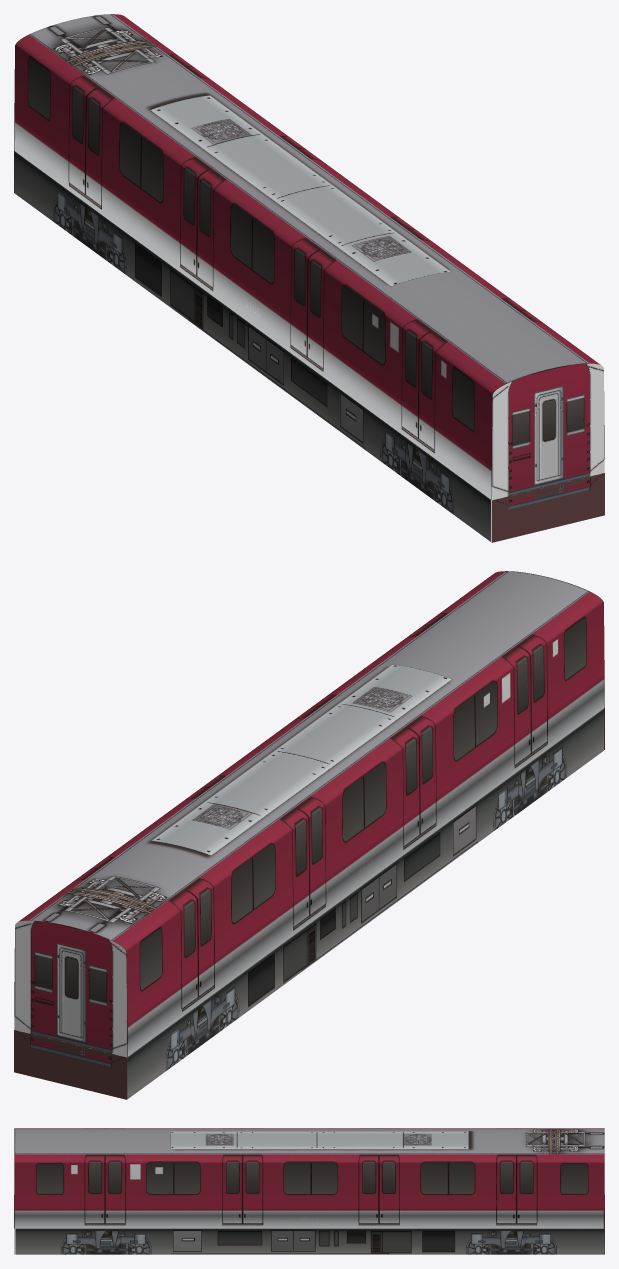
Rendered from car5.glb.
3 views of the same model, one above another, from view 1: azimuth 30°, elevation 25°; view 2: azimuth 150°, elevation 25°; view 3: azimuth 270°, elevation 25° (orthographic). The views are drawn at different scales.
Parts seen in each view (by area): view 1: kintetsu-3200-car5; view 2: kintetsu-3200-car5; view 3: kintetsu-3200-car5.
Part boxes in pixels (box(x1,y1,x2,y2)): kintetsu-3200-car5: box(14, 14, 604, 542); kintetsu-3200-car5: box(14, 571, 604, 1099); kintetsu-3200-car5: box(14, 1128, 604, 1254).
Bounding box in the file's own units: 2.8 × 3.77 × 20.53.
Materials: 8 (7 with a texture image).
